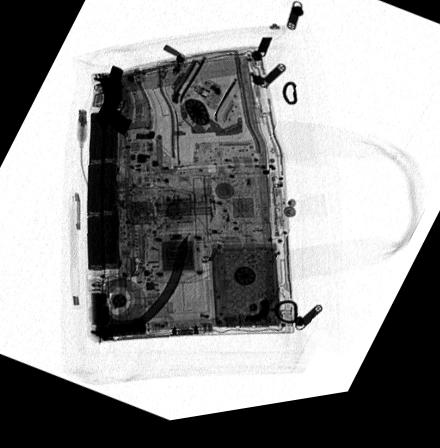Gun: (96, 67, 135, 139)
